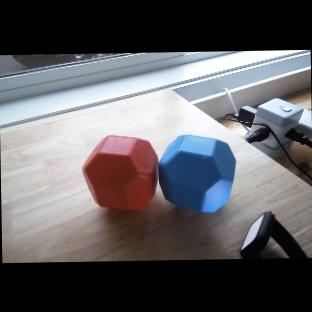V5_BLUE: (159, 129, 237, 214)
V5_RED: (81, 131, 159, 212)
pieces: (77, 124, 240, 221)
